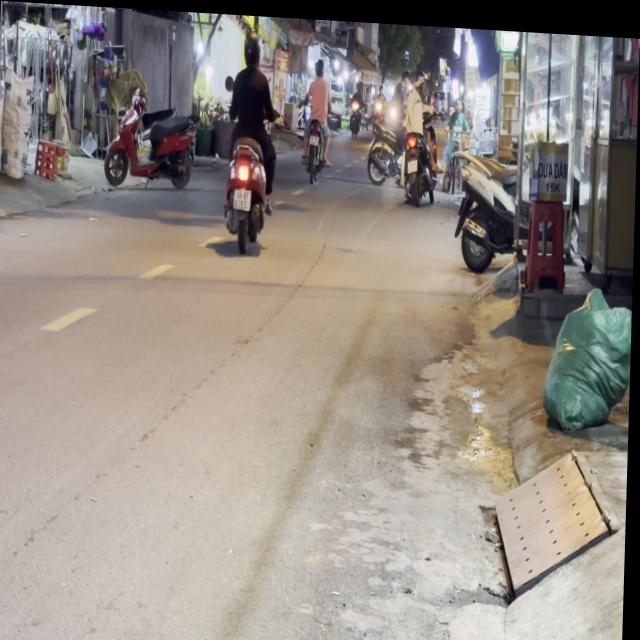helmet: (241, 29, 259, 62)
licenseplate: (218, 27, 280, 250)
nohelmet: (233, 183, 250, 205)
